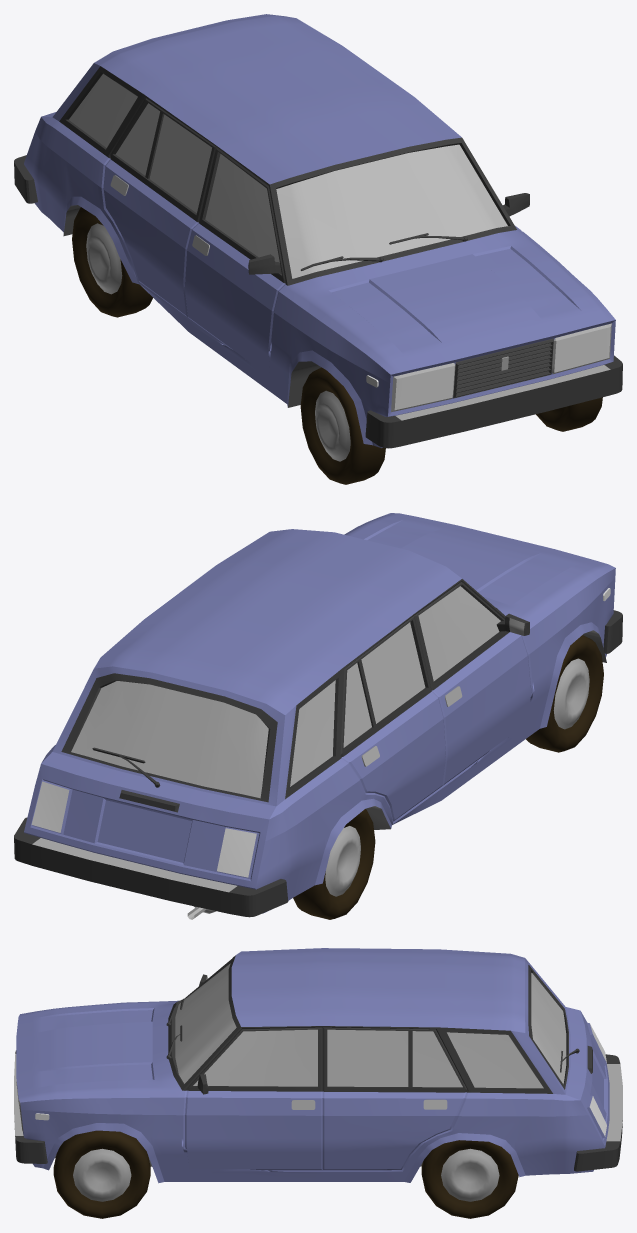
The model's file is Zhiguli_HighPoly.fbx.
3 renders of one model, top to bottom at view 1: azimuth 30°, elevation 25°; view 2: azimuth 150°, elevation 25°; view 3: azimuth 270°, elevation 25°, orthographic. The views are drawn at different scales.
Visible parts, largest first — view 1: Body, Wheel_FR, Wheel_RR, Wheel_FL; view 2: Body, Wheel_FR, Wheel_RR; view 3: Body, Wheel_FL, Wheel_RL.
Part boxes in pixels (x1,y1,x2,y2): Body: (14, 14, 622, 448); Wheel_FR: (300, 367, 385, 484); Wheel_RR: (72, 207, 152, 317); Wheel_FL: (536, 397, 602, 431); Body: (14, 513, 622, 919); Wheel_FR: (526, 635, 603, 752); Wheel_RR: (293, 809, 375, 919); Body: (14, 948, 622, 1183); Wheel_FL: (53, 1130, 150, 1218); Wheel_RL: (421, 1140, 518, 1218).
Size of the model in its own units: 172 by 141 by 401.
